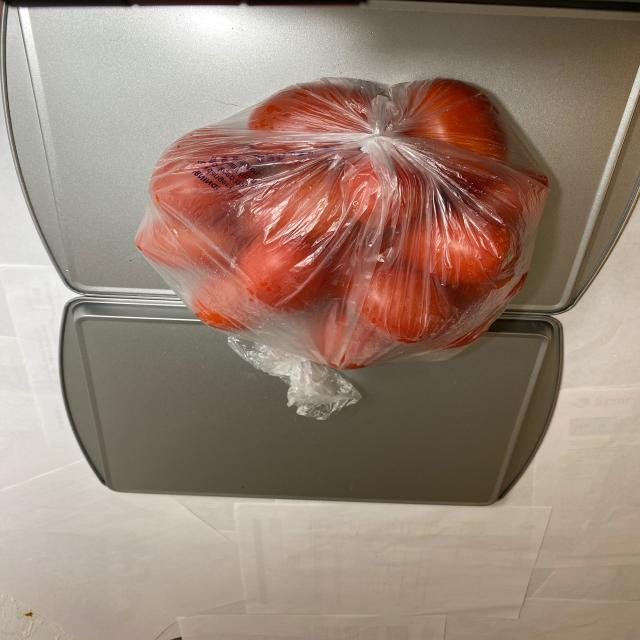tomato: (140, 86, 544, 362)
